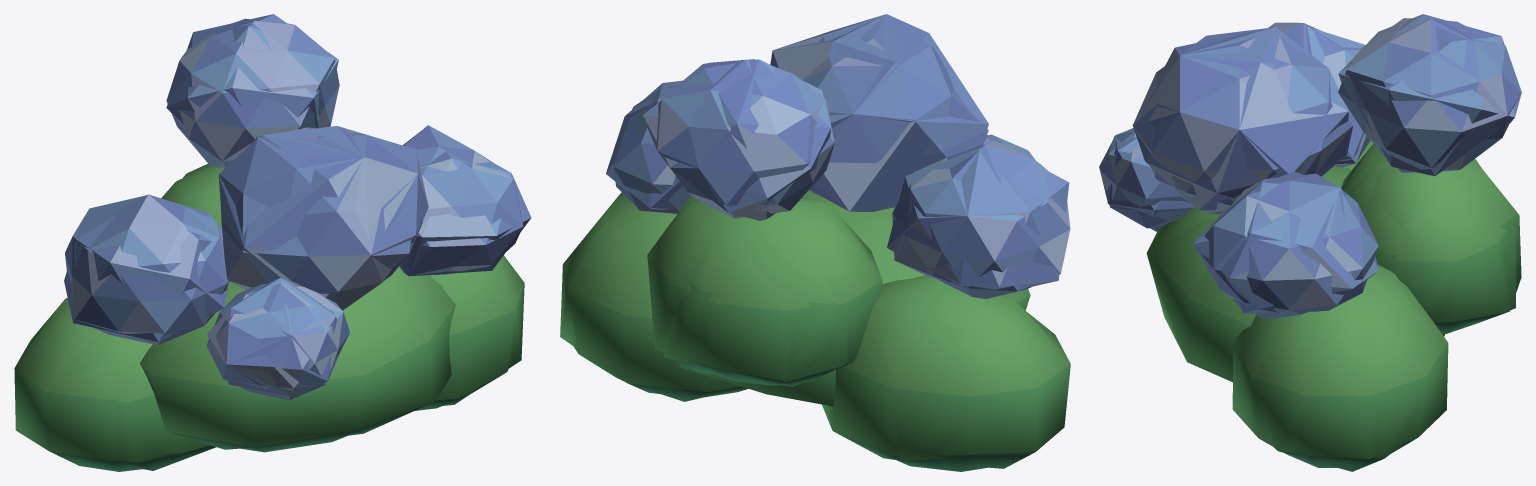
Rendered from hydrangea_blue.glb.
The picture shows the model from 3 angles, left to right: view 1: azimuth 30°, elevation 25°; view 2: azimuth 150°, elevation 25°; view 3: azimuth 270°, elevation 25°; orthographic projection. The views are drawn at different scales.
Parts seen in each view (by area): view 1: petal_sky_nl, body__far, body_nl; view 2: body__far, body_nl, petal_sky_nl; view 3: petal_sky_nl, body__far, body_nl.
Part boxes in pixels (x1,y1,x2,y2): petal_sky_nl: [65, 18, 523, 400]; body__far: [14, 14, 531, 470]; body_nl: [14, 164, 522, 471]; body__far: [560, 14, 1070, 468]; body_nl: [564, 190, 1070, 471]; petal_sky_nl: [613, 14, 1070, 298]; petal_sky_nl: [1100, 18, 1521, 318]; body__far: [1099, 14, 1521, 471]; body_nl: [1147, 140, 1521, 467].
Size of the model in its own units: 15.62 by 11.34 by 11.91.
